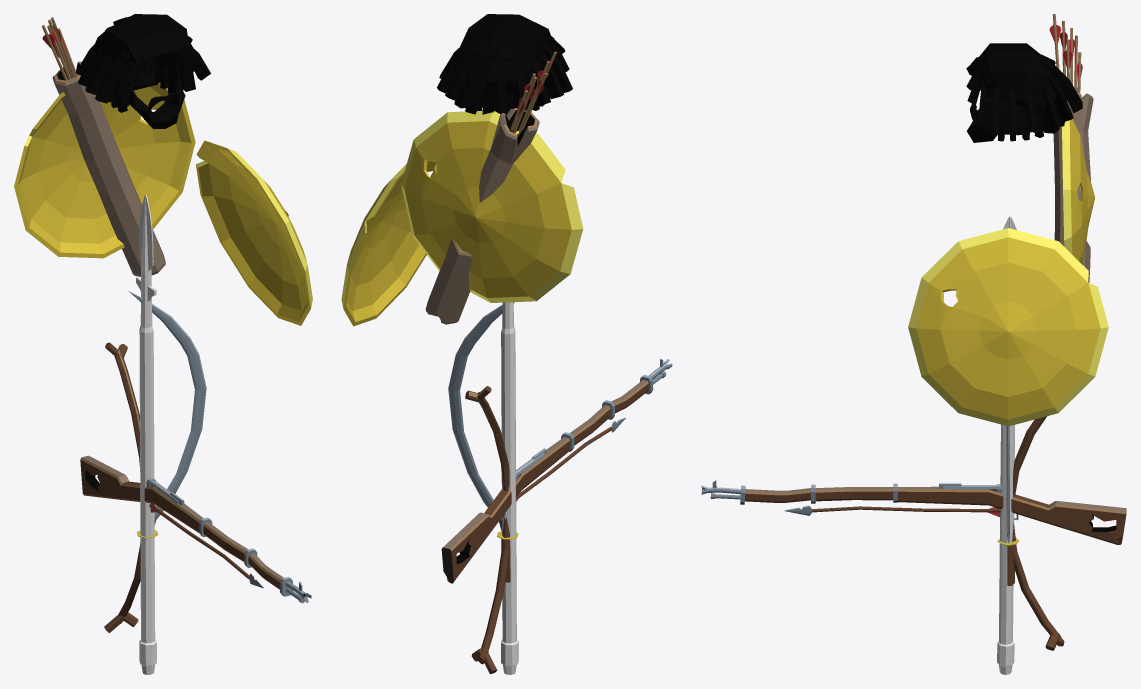
The model's file is Weapons and Hairs.fbx.
The picture shows the model from 3 angles, left to right: view 1: azimuth 30°, elevation 25°; view 2: azimuth 150°, elevation 25°; view 3: azimuth 270°, elevation 25°; orthographic projection. The views are drawn at different scales.
Parts seen in each view (by area): view 1: sheild2, sheild1, bow_Storage, Cylinder, rifle, Left_Leg.002, hair3, sword, bow, hair2, Arrow; view 2: sheild2, sheild1, bow_Storage, hair3, rifle, Cylinder, Left_Leg.002, sword, bow, Arrow; view 3: sheild1, rifle, hair3, Left_Leg.002, bow_Storage, sheild2, Cylinder, bow, Arrow, sword.
Boxes of the visible parts, x1=… form: sheild2: x1=14, y1=82, x2=195, y2=258; sheild1: x1=196, y1=140, x2=312, y2=325; bow_Storage: x1=41, y1=17, x2=165, y2=276; Cylinder: x1=136, y1=194, x2=156, y2=674; rifle: x1=80, y1=455, x2=311, y2=603; Left_Leg.002: x1=94, y1=14, x2=189, y2=123; hair3: x1=75, y1=16, x2=210, y2=112; sword: x1=128, y1=291, x2=206, y2=538; bow: x1=104, y1=342, x2=140, y2=632; hair2: x1=130, y1=64, x2=179, y2=128; Arrow: x1=149, y1=503, x2=263, y2=588; sheild2: x1=401, y1=111, x2=583, y2=302; sheild1: x1=341, y1=161, x2=436, y2=326; bow_Storage: x1=425, y1=51, x2=556, y2=324; hair3: x1=437, y1=34, x2=572, y2=114; rifle: x1=441, y1=359, x2=672, y2=583; Cylinder: x1=501, y1=302, x2=518, y2=674; Left_Leg.002: x1=453, y1=14, x2=550, y2=107; sword: x1=448, y1=302, x2=518, y2=582; bow: x1=465, y1=386, x2=509, y2=673; Arrow: x1=516, y1=417, x2=625, y2=501; sheild1: x1=908, y1=228, x2=1108, y2=426; rifle: x1=701, y1=480, x2=1126, y2=544; hair3: x1=966, y1=54, x2=1082, y2=141; Left_Leg.002: x1=970, y1=43, x2=1059, y2=139; bow_Storage: x1=1049, y1=14, x2=1093, y2=282; sheild2: x1=1062, y1=119, x2=1094, y2=264; Cylinder: x1=997, y1=216, x2=1016, y2=674; bow: x1=1012, y1=416, x2=1064, y2=650; Arrow: x1=784, y1=505, x2=1000, y2=516; sword: x1=998, y1=426, x2=1018, y2=585.
Size of the model in its own units: 111 by 286 by 176.
